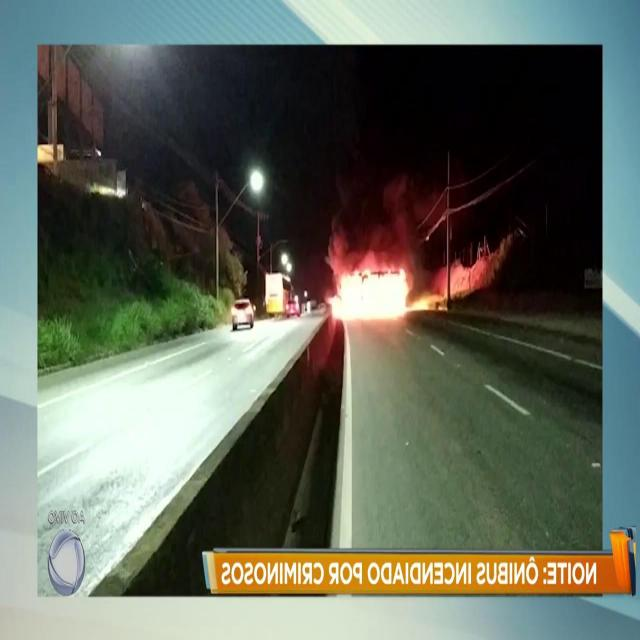fire: (330, 265, 448, 331)
